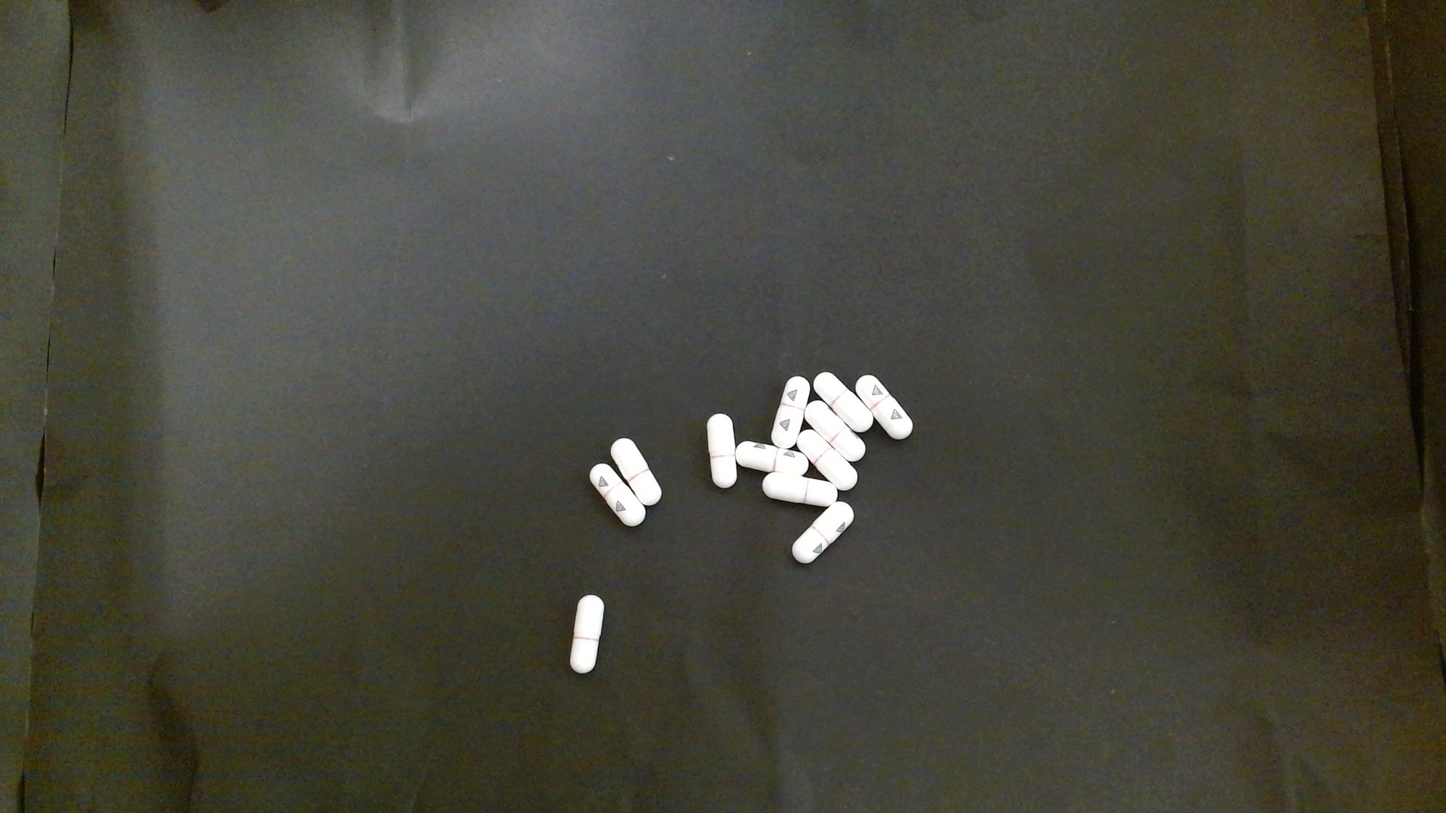Capsule: (803, 398, 866, 464), (791, 500, 853, 564), (856, 373, 914, 439), (796, 428, 857, 490), (813, 372, 874, 434), (590, 461, 645, 525), (610, 437, 660, 507), (770, 376, 811, 452), (569, 594, 604, 674), (762, 471, 837, 507), (737, 442, 808, 477), (706, 414, 737, 487)
